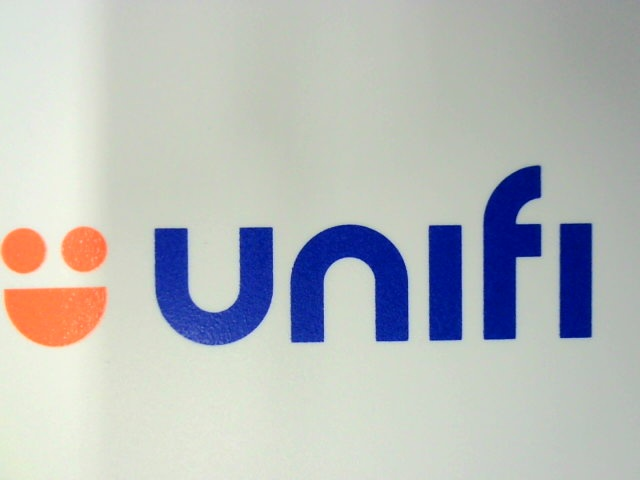BN_unifi: (2, 164, 598, 357)
